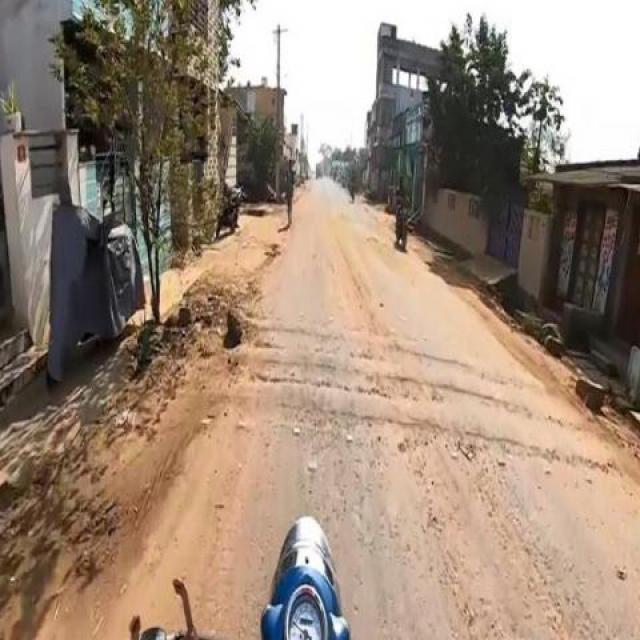Unmarked Bump: (209, 374, 612, 482), (236, 341, 568, 428), (248, 314, 548, 392)
